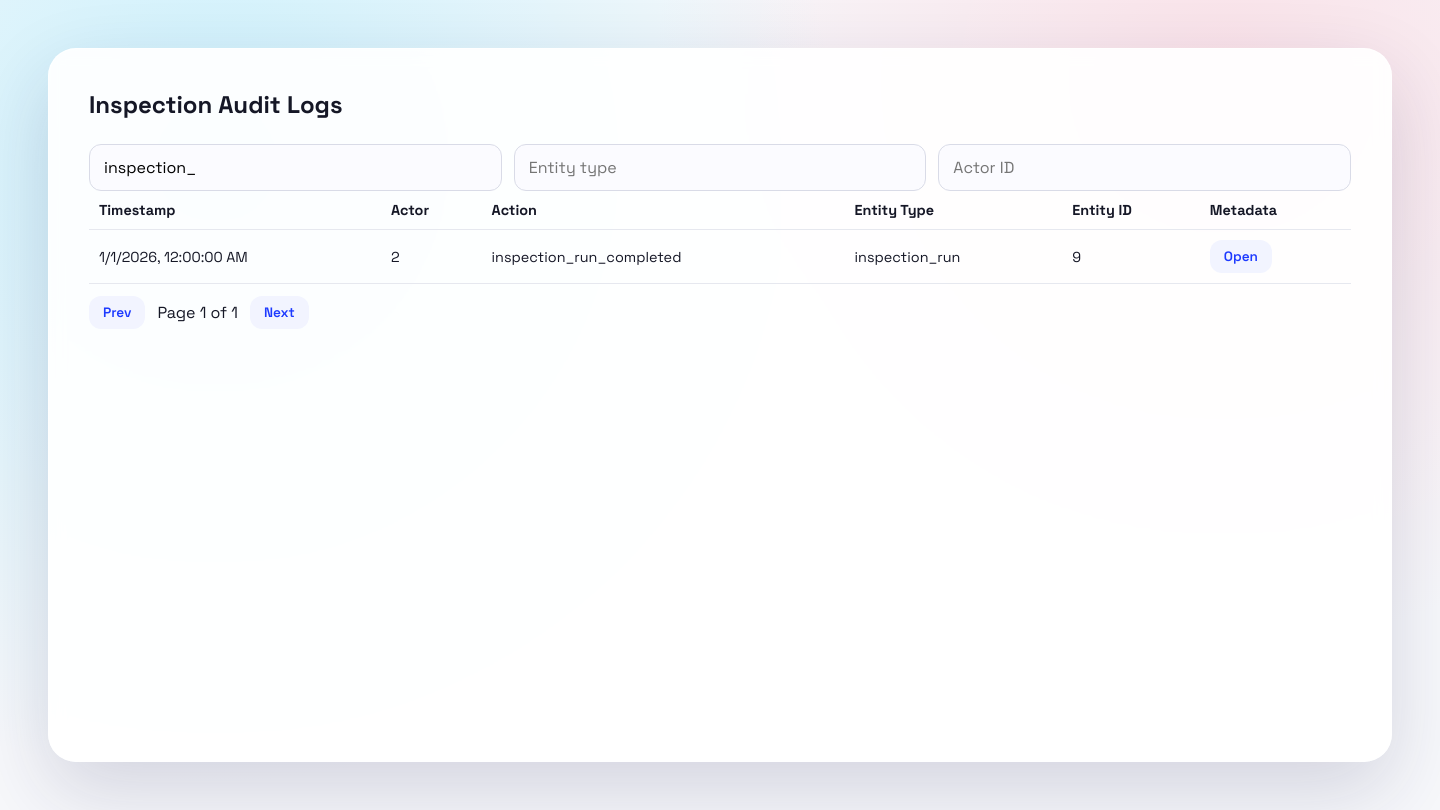
Test: InspectionAuditLogsPage › renders audit logs and opens metadata drawer
Expected: the text "inspection_run_completed" is shown, [482,230,844,284]
Click the button "Open": click(1241, 256) [1210,240,1272,273]
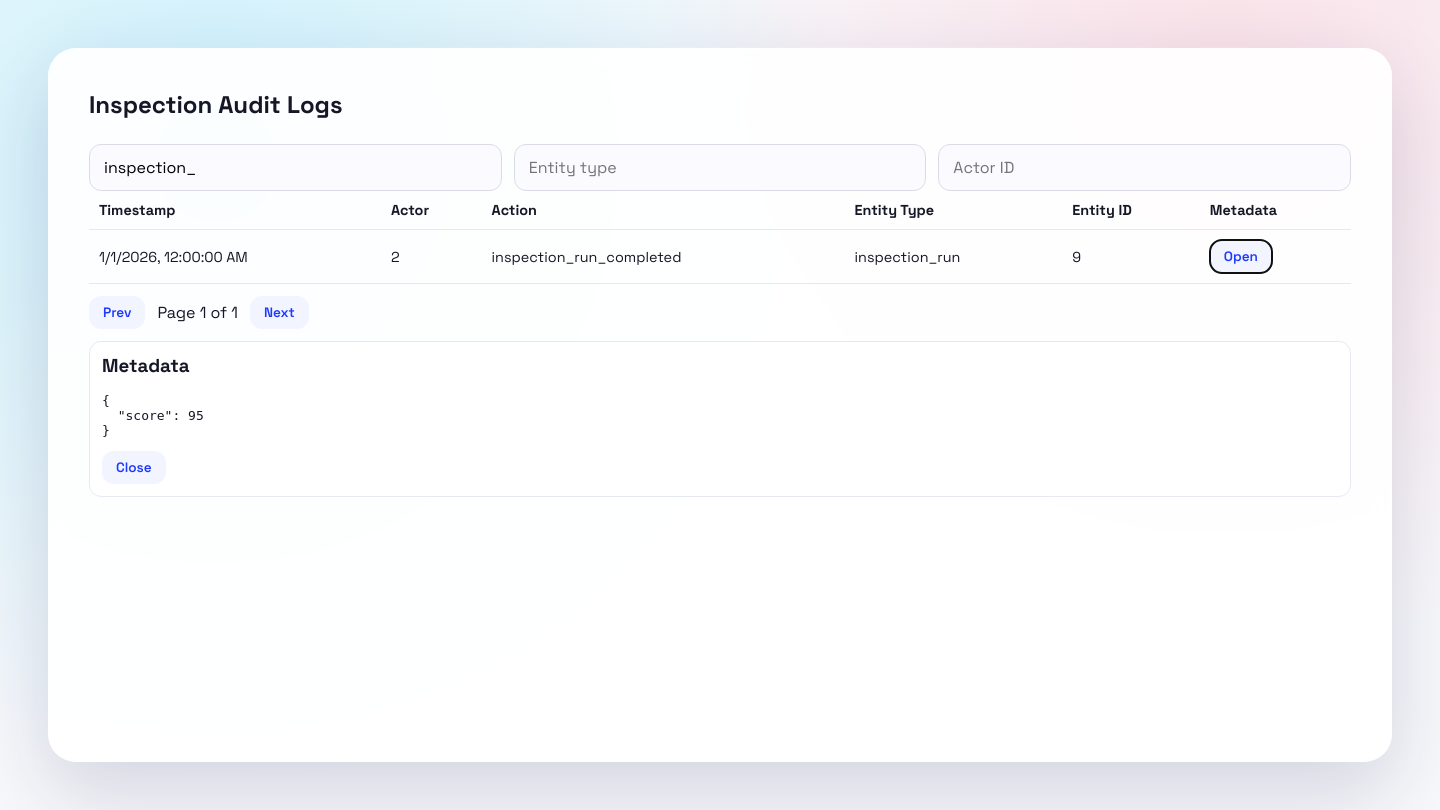
Now the text "{ \"score\": 95 }" is shown, box [102,393,204,438]
